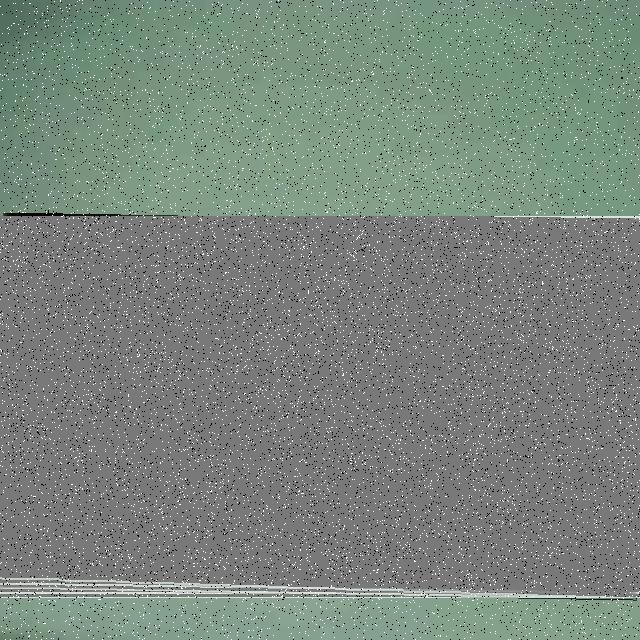dua ribu rupiah: (0, 216, 640, 598)
